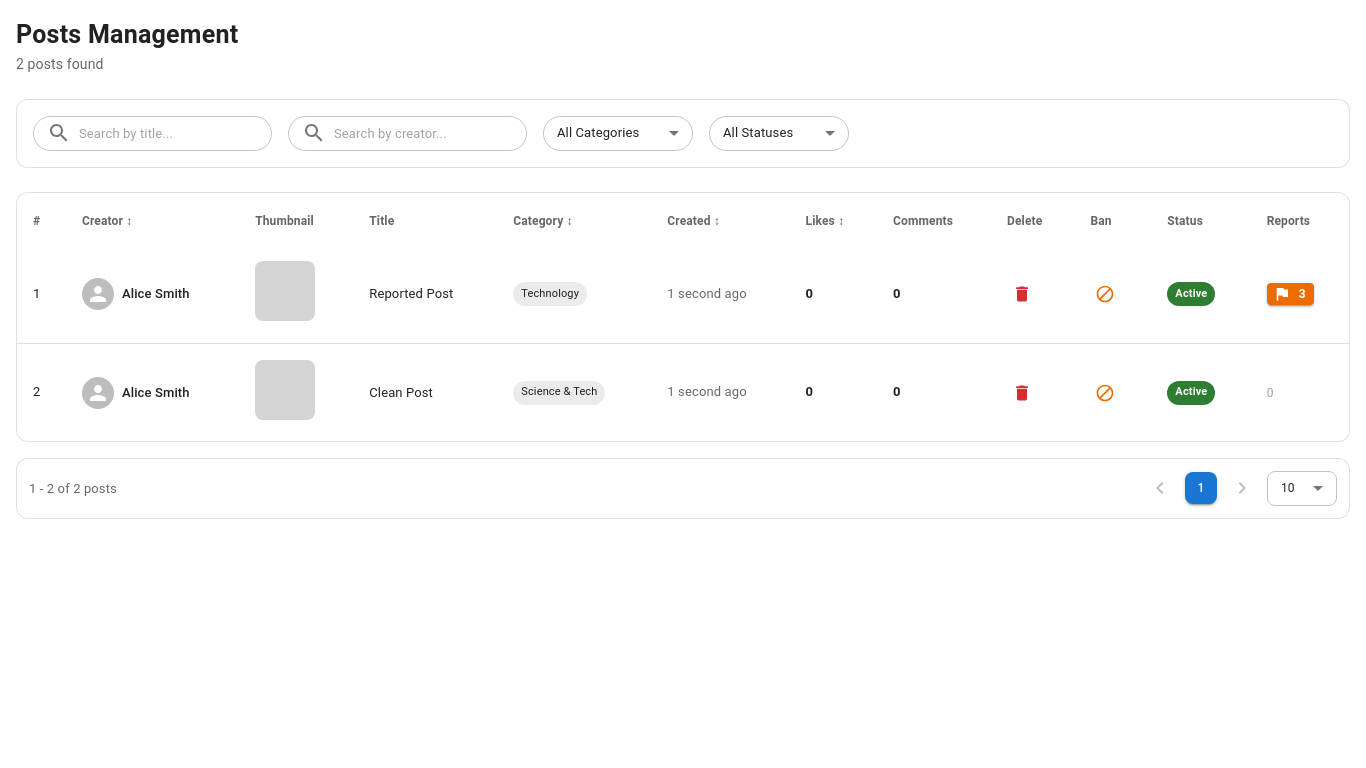
Scenario: AdminCardsPanel — Reports column › shows loading skeletons while fetching reporters
Step 1. Click the button named "view 3 reporters" → click(1290, 294), box x1=1267 y1=283 x2=1314 y2=305
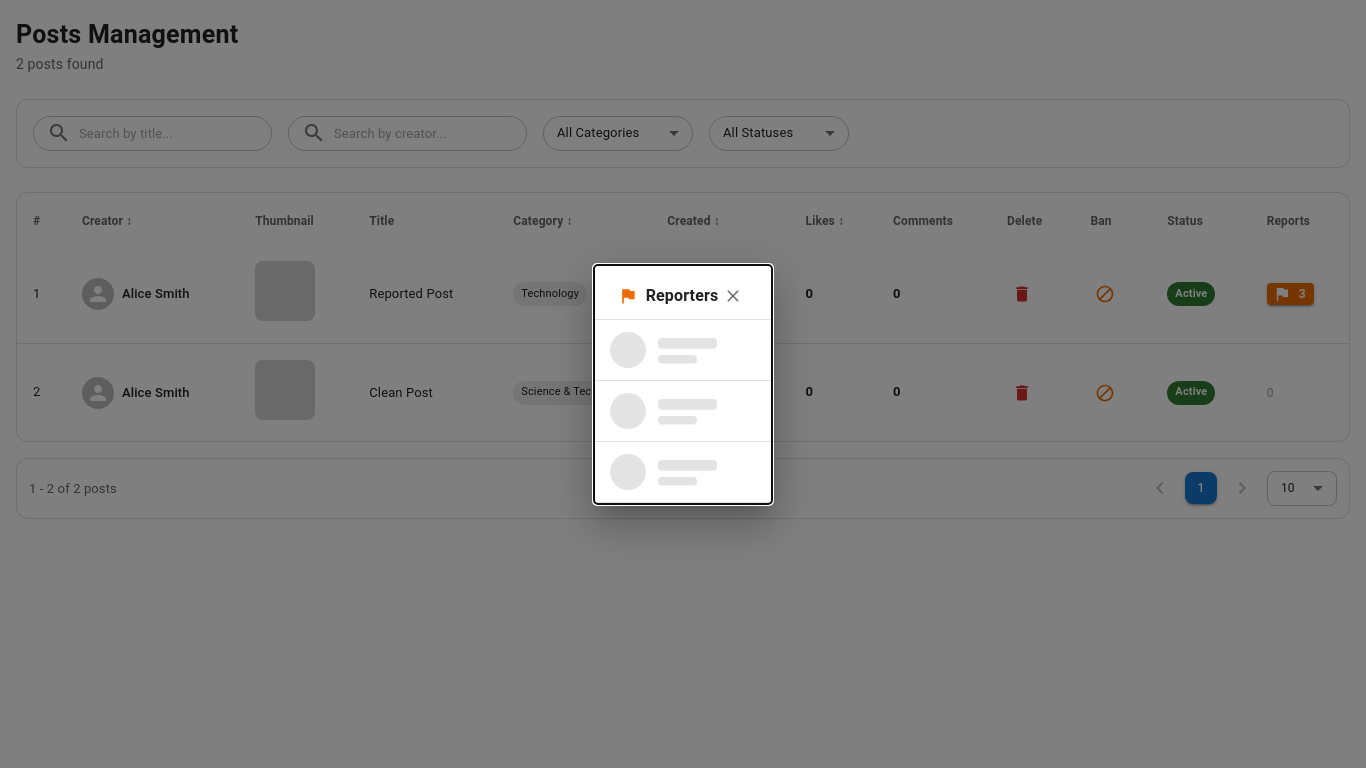
Expected: the dialog is shown, x1=594 y1=264 x2=772 y2=504
